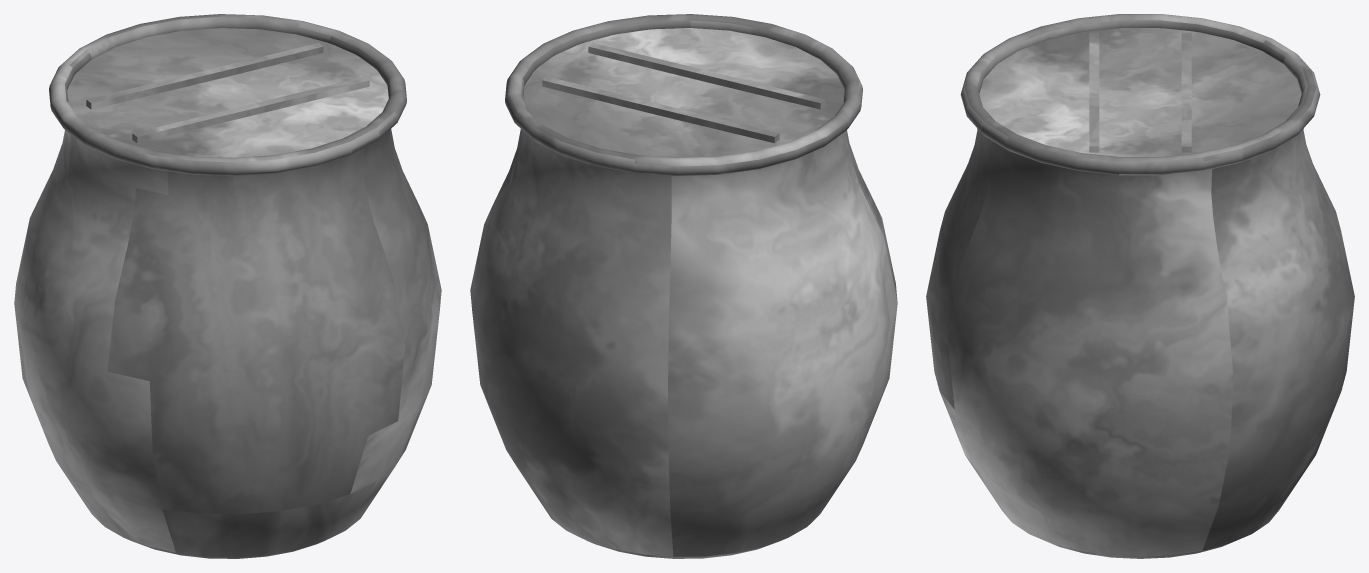
Rendered from SM_stone_jar.fbx.
3 renders of one model, left to right at view 1: azimuth 30°, elevation 25°; view 2: azimuth 150°, elevation 25°; view 3: azimuth 270°, elevation 25°, orthographic.
Parts seen in each view (by area): view 1: SM_stone_jar; view 2: SM_stone_jar; view 3: SM_stone_jar.
Boxes of the visible parts, left/top/right/bottom form: SM_stone_jar: left=14, top=14, right=441, bottom=558; SM_stone_jar: left=470, top=14, right=897, bottom=558; SM_stone_jar: left=926, top=14, right=1354, bottom=558.
Size of the model in its own units: 74.45 by 74.45 by 80.01.
1 material, 1 textured.
